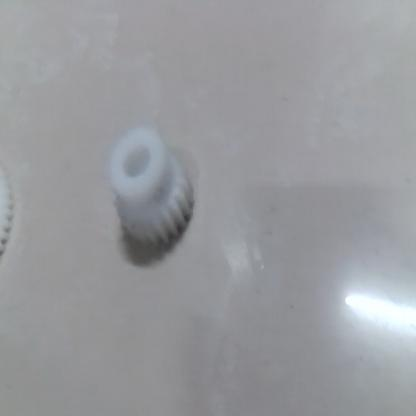FOD: (106, 124, 201, 257)
